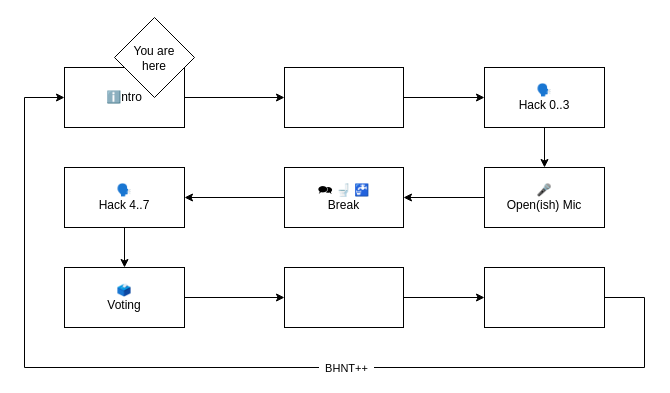
This 670x393 diagram has some shape labels left out. Here are the shapes that lost their labels. From the top down, the box of each, then its label:
(284, 66, 404, 128): 🔥 Warmup
(284, 266, 404, 328): Trophy Handover Ritual 🏆
(484, 266, 604, 328): 🏓 BLTT
